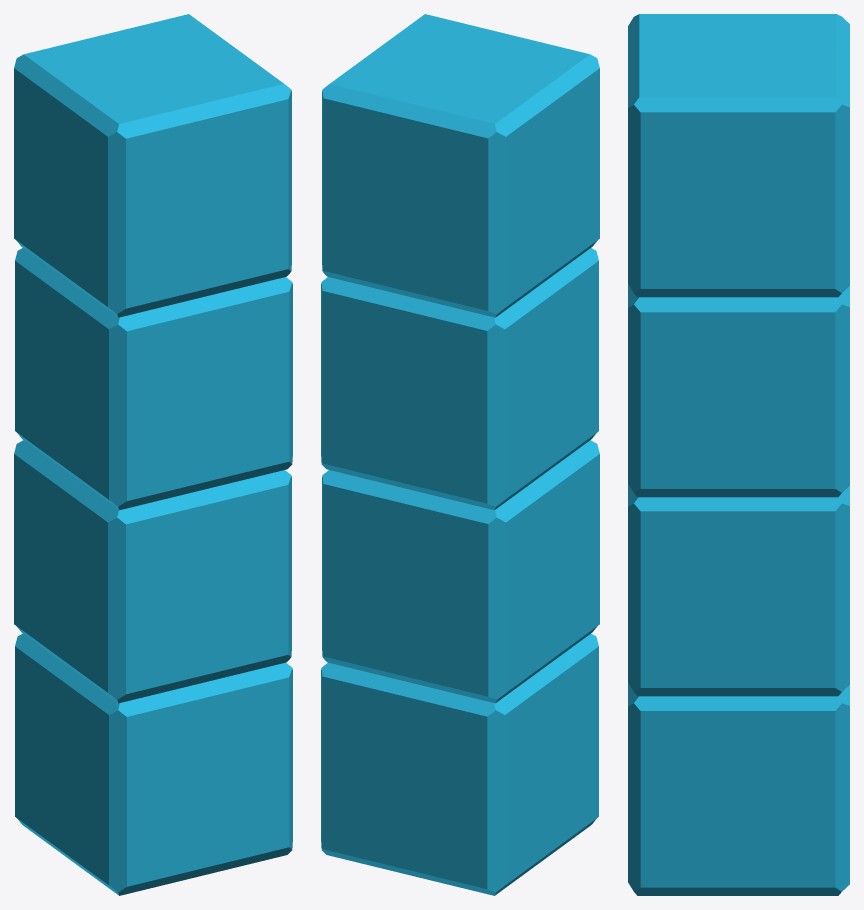
Rendered from pieza6.fbx.
The picture shows the model from 3 angles, left to right: view 1: azimuth 30°, elevation 25°; view 2: azimuth 150°, elevation 25°; view 3: azimuth 270°, elevation 25°; orthographic projection. The views are drawn at different scales.
Parts seen in each view (by area): view 1: Cube.004, Cube.003, Cube.002, Cube; view 2: Cube.004, Cube.003, Cube.002, Cube; view 3: Cube.004, Cube.002, Cube, Cube.003.
Boxes of the visible parts, x1,y1,x2,y2 form: Cube.004: (14,14,291,317); Cube.003: (14,440,291,703); Cube.002: (15,248,292,510); Cube: (15,633,292,895); Cube.004: (322,14,599,317); Cube.003: (322,440,599,703); Cube.002: (321,248,598,510); Cube: (321,633,598,895); Cube.004: (628,14,849,297); Cube.002: (628,284,849,497); Cube: (628,683,849,895); Cube.003: (628,484,849,696).
Bounding box in the file's own units: 212 × 846 × 213.
